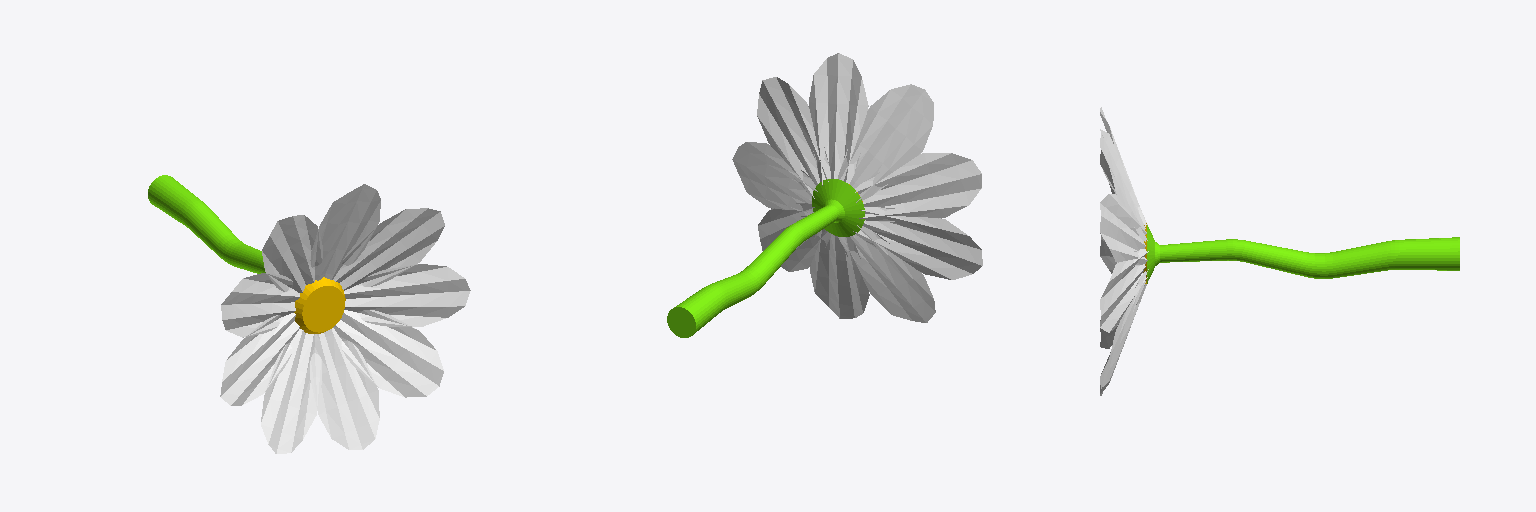
3 views of the same model, side by side, from view 1: azimuth 30°, elevation 25°; view 2: azimuth 150°, elevation 25°; view 3: azimuth 270°, elevation 25° (orthographic).
Visible parts, largest first — view 1: Circle; view 2: Circle; view 3: Circle.
Part boxes in pixels (x1,y1,x2,y2): Circle: (148,175,470,453); Circle: (667,53,982,337); Circle: (1100,107,1459,395).
Bounding box in the file's own units: 0.5379 × 0.5459 × 0.6703.
3 materials, 3 textured.